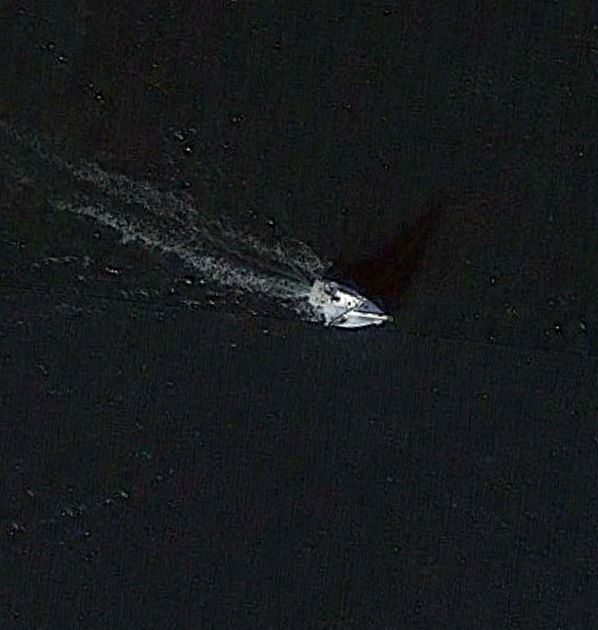boat: (302, 273, 394, 332)
